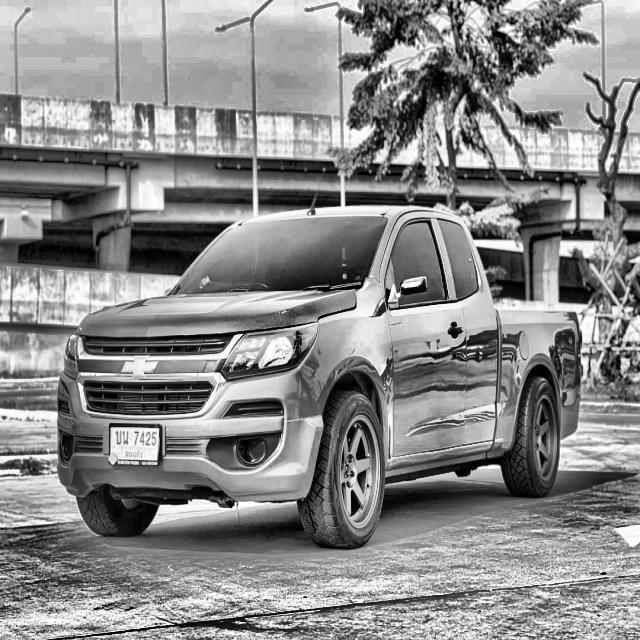license-plate: (108, 422, 162, 466)
